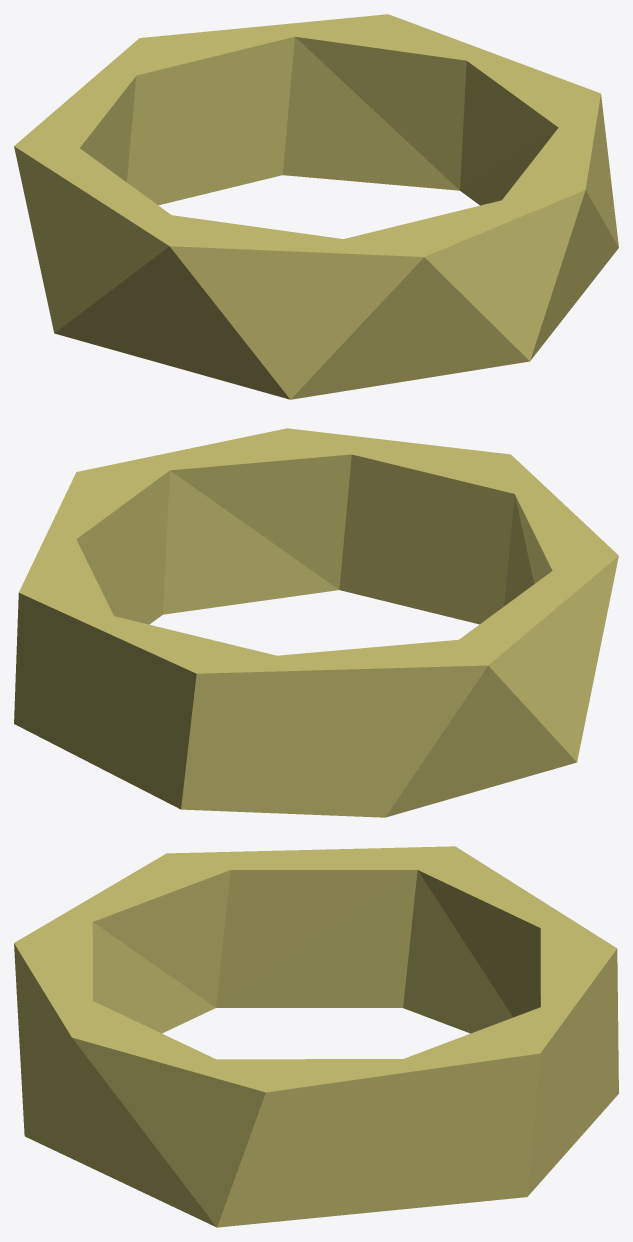
The model's file is GoldRing.fbx.
The picture shows the model from 3 angles, top to bottom: view 1: azimuth 30°, elevation 25°; view 2: azimuth 150°, elevation 25°; view 3: azimuth 270°, elevation 25°; orthographic projection. The views are drawn at different scales.
Parts seen in each view (by area): view 1: Circle; view 2: Circle; view 3: Circle.
Part boxes in pixels (x1,y1,x2,y2): Circle: [14, 14, 618, 399]; Circle: [14, 428, 618, 817]; Circle: [14, 846, 618, 1227].
Bounding box in the file's own units: 5.15 × 1.29 × 5.11.
